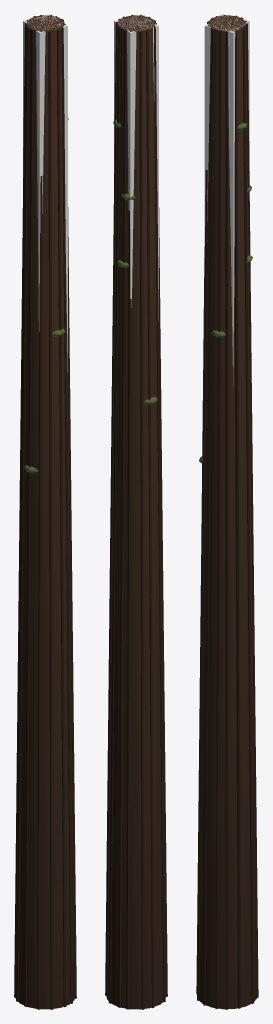
File: tronco_gigante.glb
3 renders of one model, left to right at view 1: azimuth 30°, elevation 25°; view 2: azimuth 210°, elevation 25°; view 3: azimuth 330°, elevation 25°, orthographic.
Visible parts, largest first — view 1: tronco_gigante_Malla, COL_0; view 2: tronco_gigante_Malla, COL_0; view 3: tronco_gigante_Malla, COL_0.
Boxes of the visible parts, left/top/right/bottom form: tronco_gigante_Malla: left=14, top=15, right=76, bottom=1009; COL_0: left=23, top=14, right=67, bottom=372; tronco_gigante_Malla: left=105, top=15, right=167, bottom=1009; COL_0: left=114, top=14, right=158, bottom=321; tronco_gigante_Malla: left=196, top=15, right=258, bottom=1009; COL_0: left=204, top=14, right=249, bottom=385.
Size of the model in its own units: 8.55 by 150 by 8.68.
